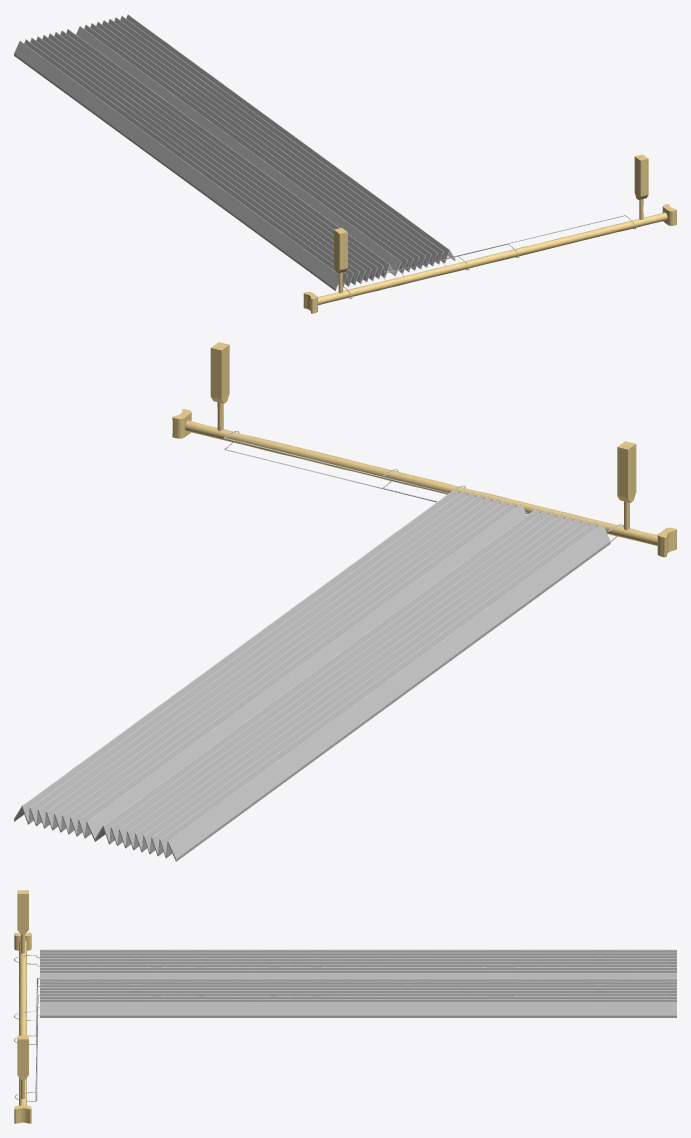
The model's file is curtain_left.obj.
3 views of the same model, one above another, from view 1: azimuth 30°, elevation 25°; view 2: azimuth 150°, elevation 25°; view 3: azimuth 270°, elevation 25° (orthographic). The views are drawn at different scales.
Parts seen in each view (by area): view 1: curtain_left; view 2: curtain_left; view 3: curtain_left.
Part boxes in pixels (bbox=[...]): curtain_left: bbox=[14, 14, 676, 313]; curtain_left: bbox=[14, 342, 676, 861]; curtain_left: bbox=[14, 890, 676, 1123].
Size of the model in its own units: 1.31 by 0.2461 by 2.08.
